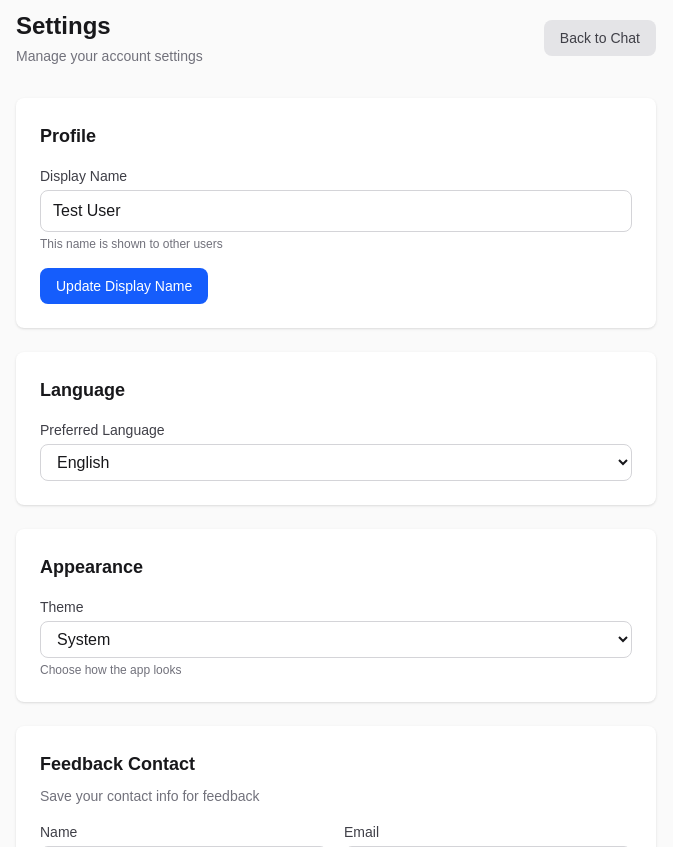
SettingsPage › Display name section › shows error message when updateDisplayName fails with Error
expect the field labelled "Display Name" holds "Test User": met, box [40, 190, 632, 232]
Click the button "Update Display Name" at (124, 286), box [40, 268, 208, 304]
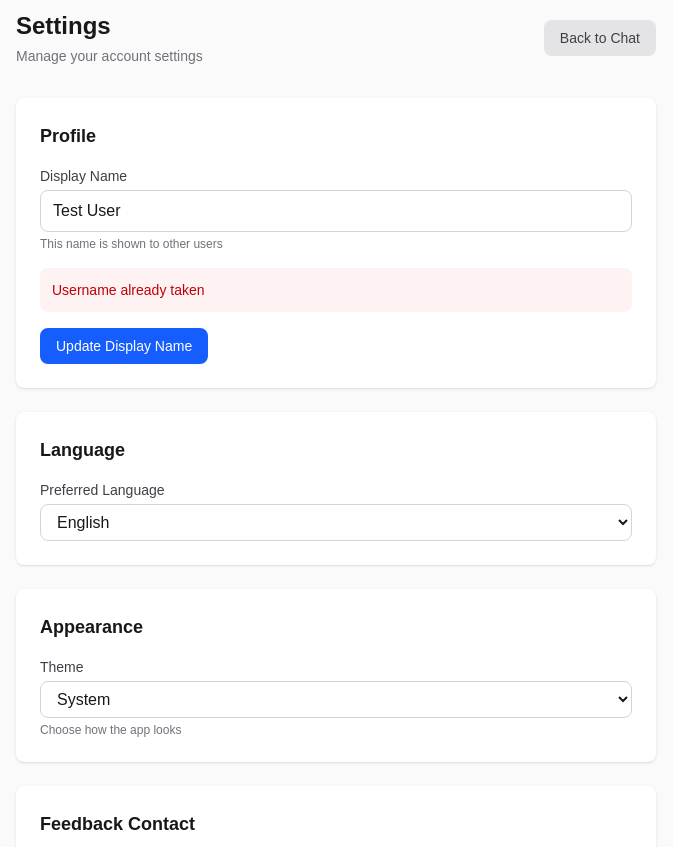
expect the text "Username already taken" is shown: met, box [40, 268, 632, 312]
